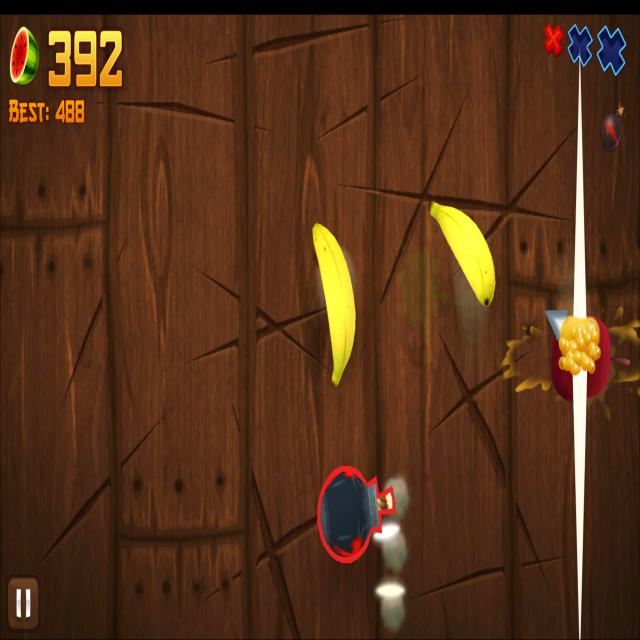bomb: (317, 465, 396, 563)
fruit: (313, 224, 357, 388), (428, 202, 496, 306)
